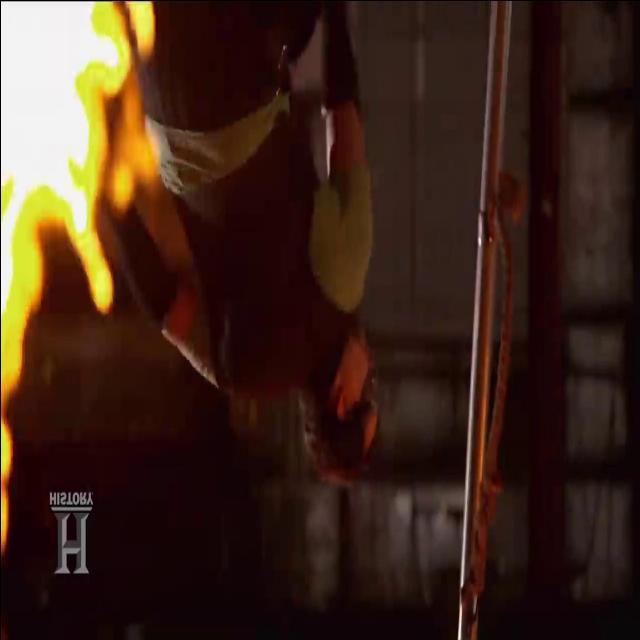Fire: (1, 1, 159, 550)
